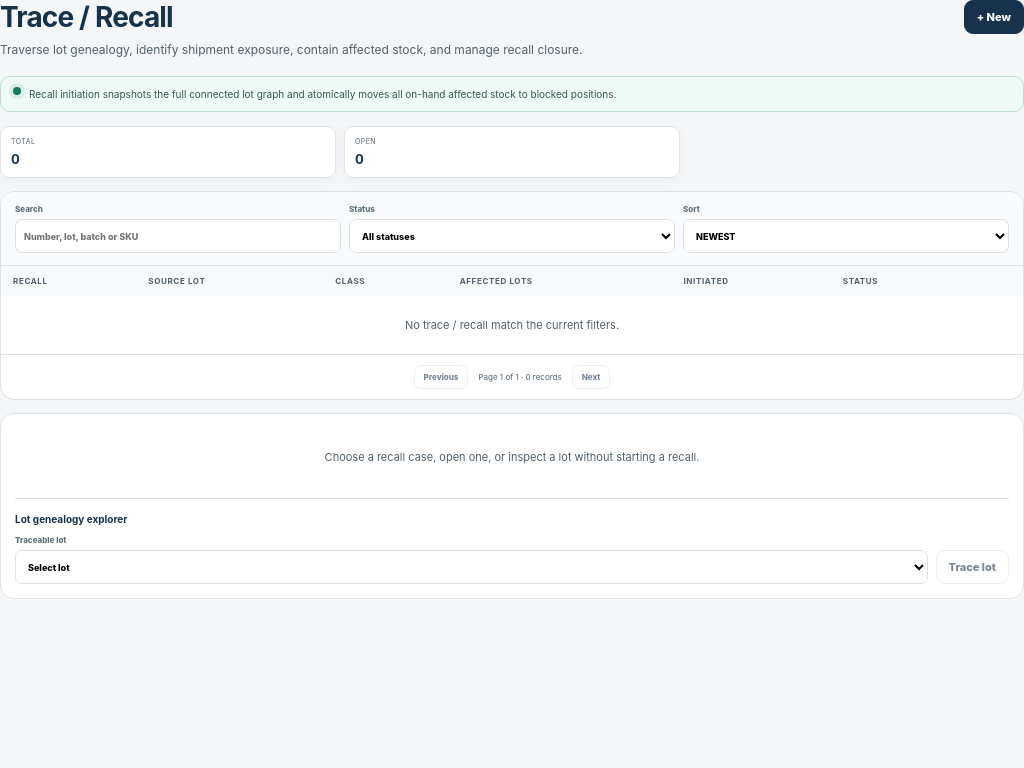
it: traceability and batch cost workspaces › inspects genealogy and opens a recall from its source lot
The width and height of the screenshot is (1024, 768).
Select "RM-APPLE-2609A · SKU-APPLE-BASE" in the dropdown labelled "Traceable lot". click: coordinates (471, 567)
box: [15,550,928,584]
Click the button "Trace lot". click: coordinates (972, 567)
box: [936,550,1009,584]
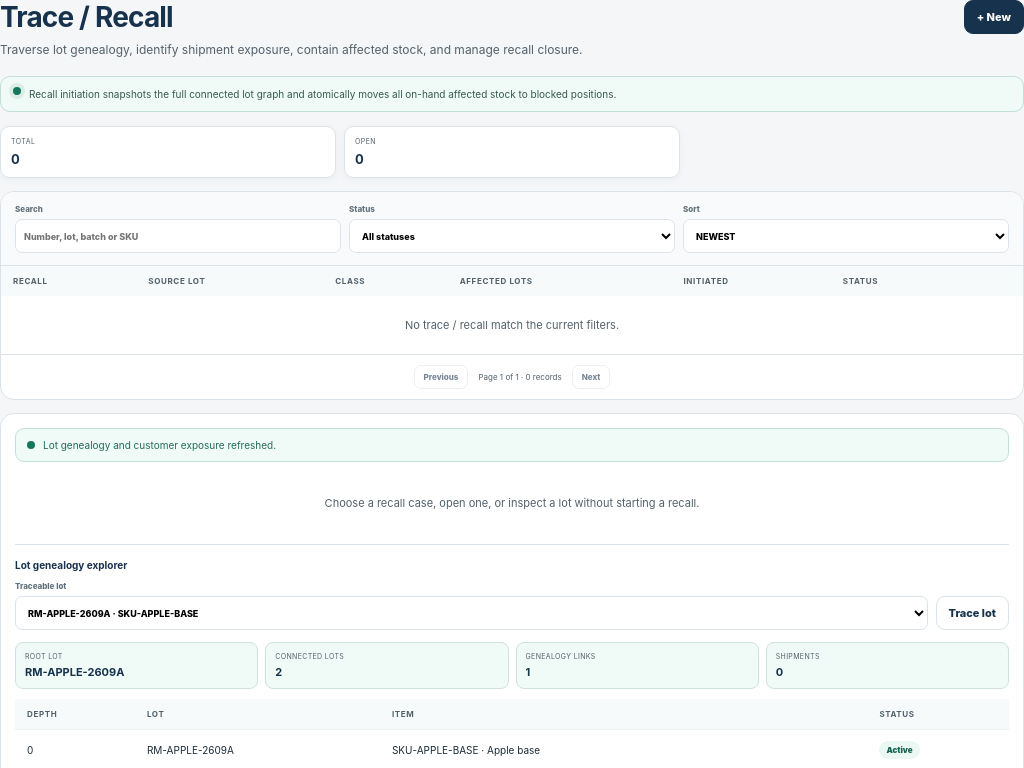
Click the button "+ New". click: coordinates (994, 17)
box: [964,0,1023,34]
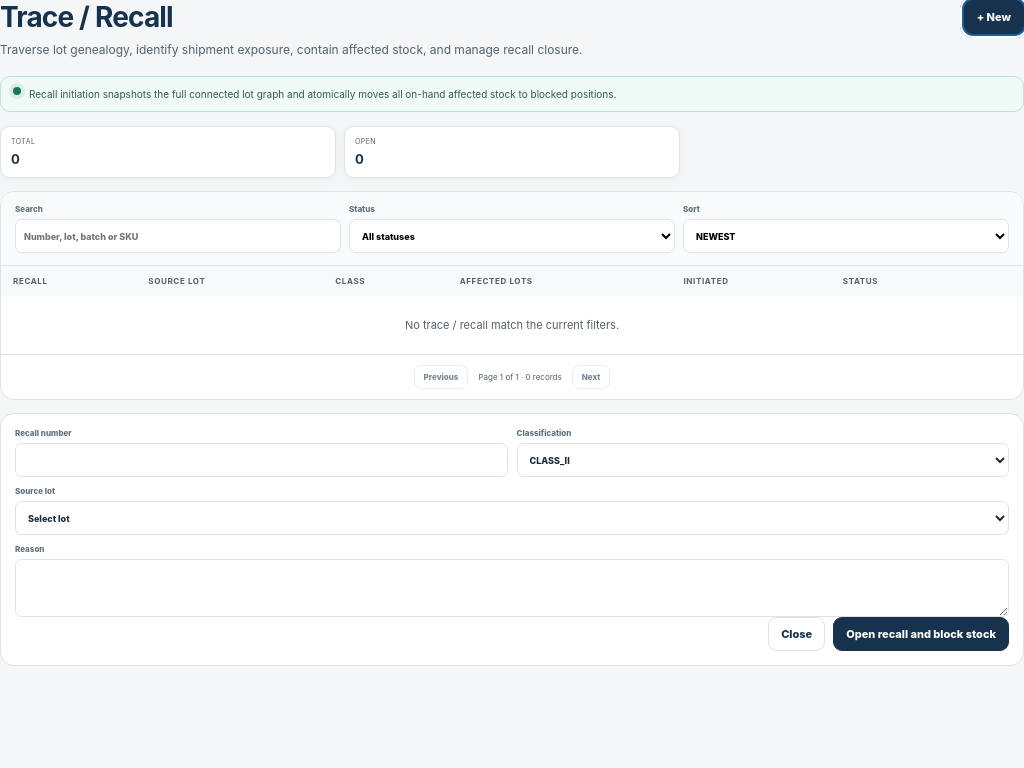
Type "recall-ui-001" into the field labelled "Recall number". click: coordinates (261, 460)
box: [15,443,508,477]
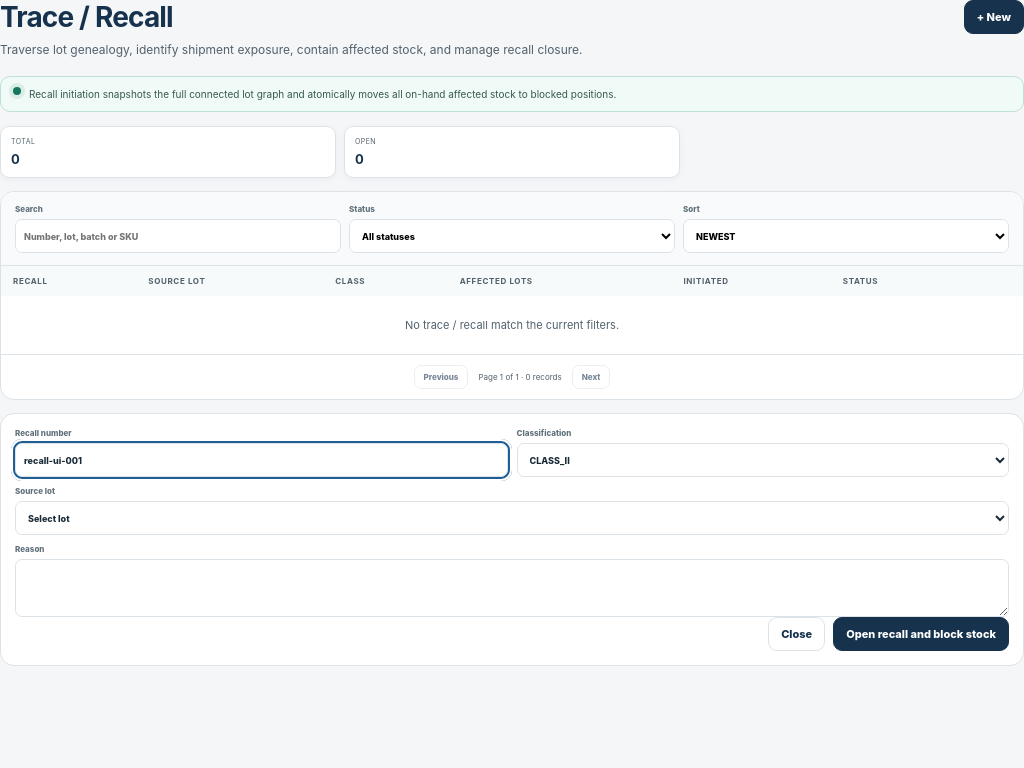
Select "RM-APPLE-2609A · SKU-APPLE-BASE · ACTIVE" in the dropdown named "Recall source lot". click: coordinates (512, 518)
box: [15,501,1009,535]
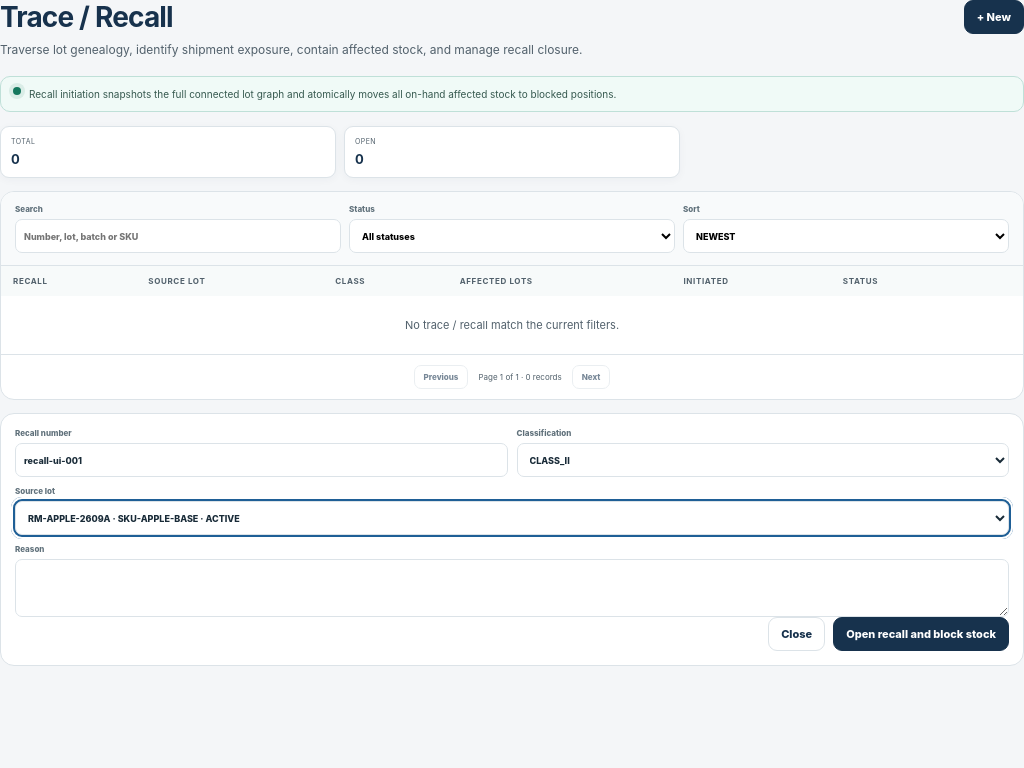
Type "Supplier contamination notification received." into the text box named "Recall reason". click: coordinates (512, 588)
box: [15,559,1009,617]
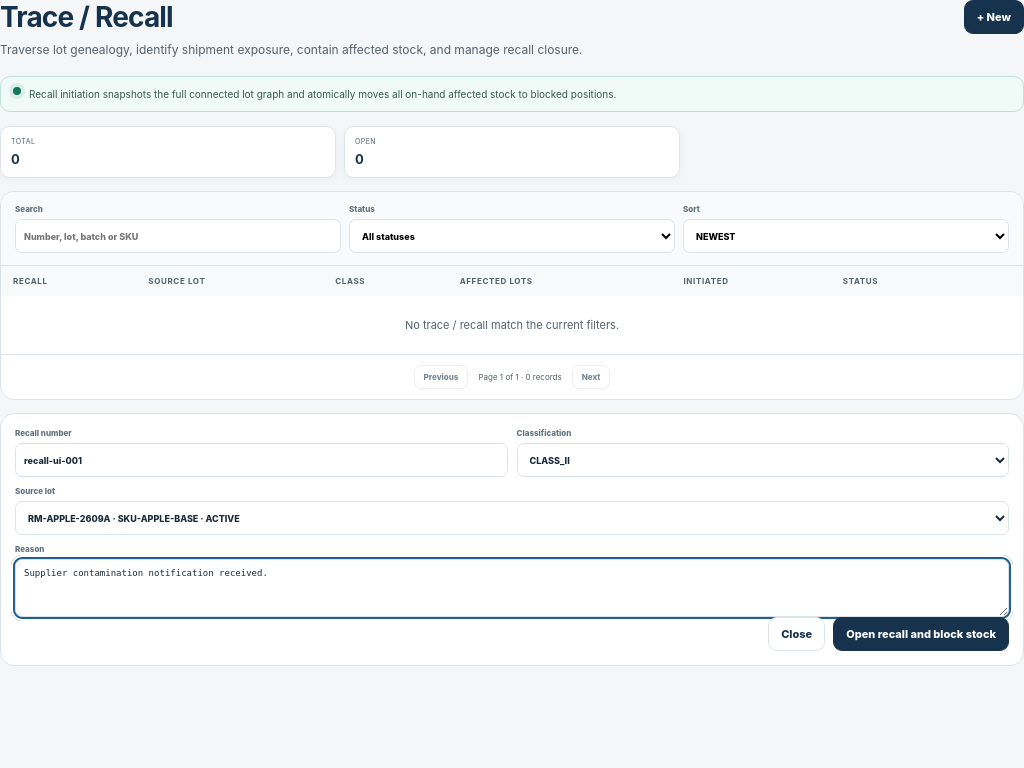
Click the button "Open recall and block stock". click: coordinates (921, 634)
box: [833,617,1009,651]
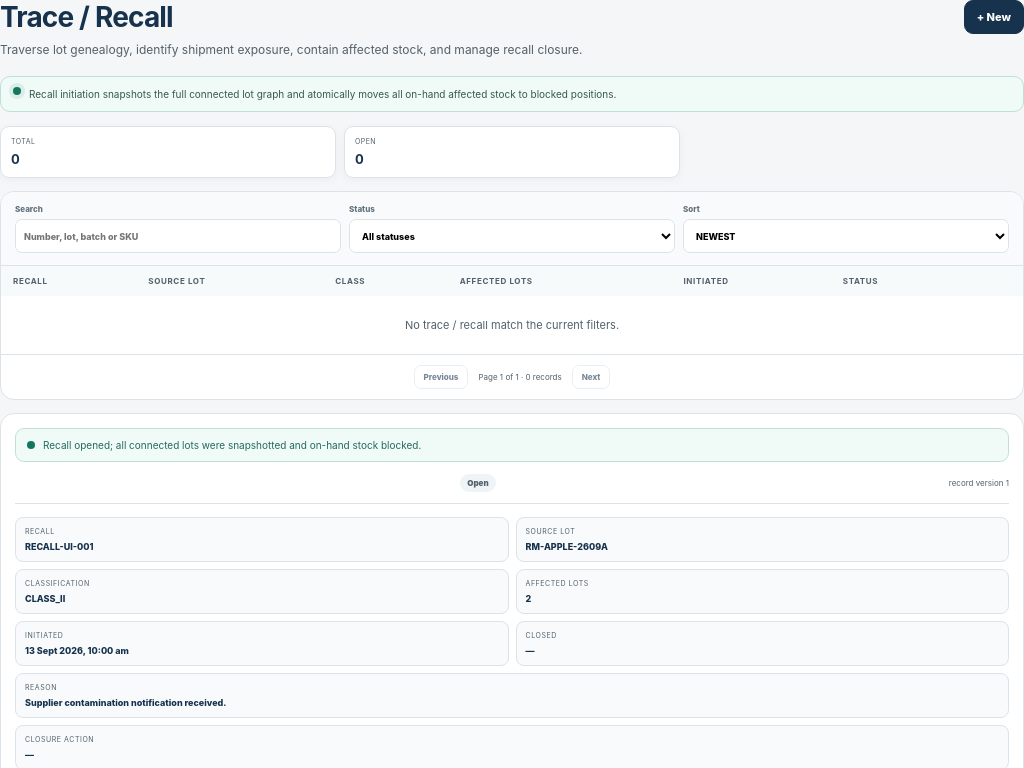
Result: the text "Recall opened; all connected lots were snapshotted and on-hand stock blocked." is shown at [15,428,1009,462]
